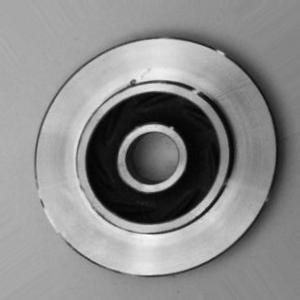defect: (121, 50, 185, 91)
